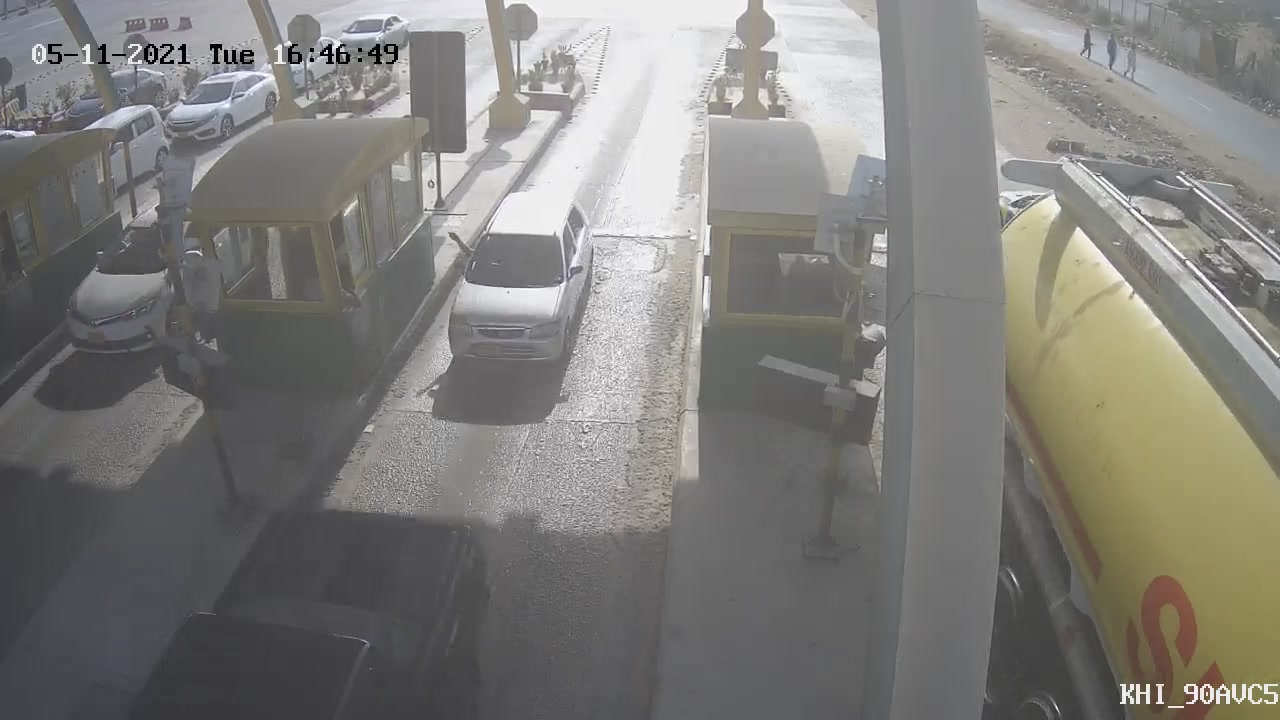F1: (425, 178, 608, 385)
